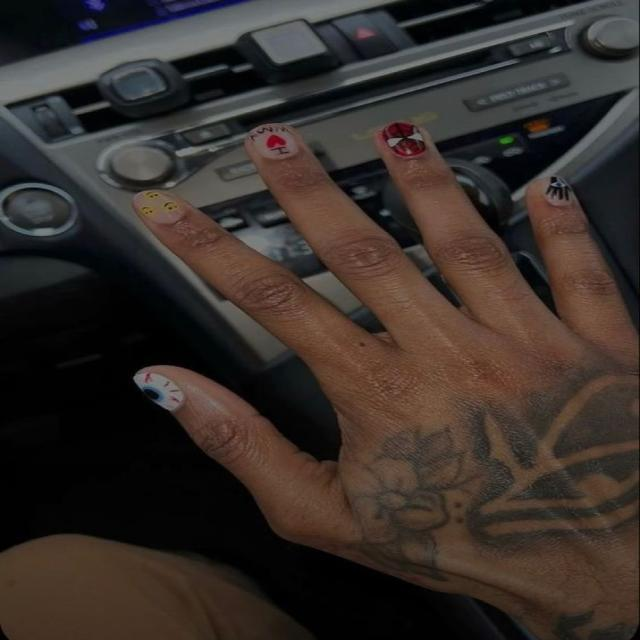Fingernail: (135, 373, 182, 413), (135, 190, 184, 223), (251, 125, 297, 160), (383, 122, 426, 158), (536, 175, 572, 206)
